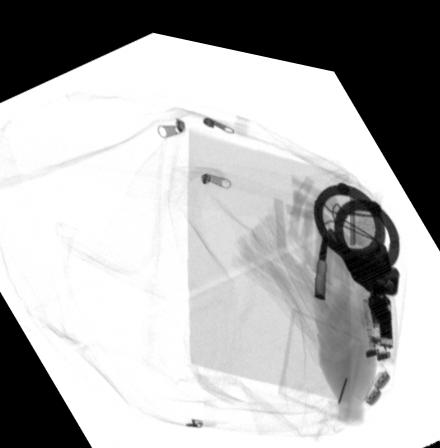Bullet: (314, 217, 327, 287)
HandCuffs: (312, 167, 400, 312)
